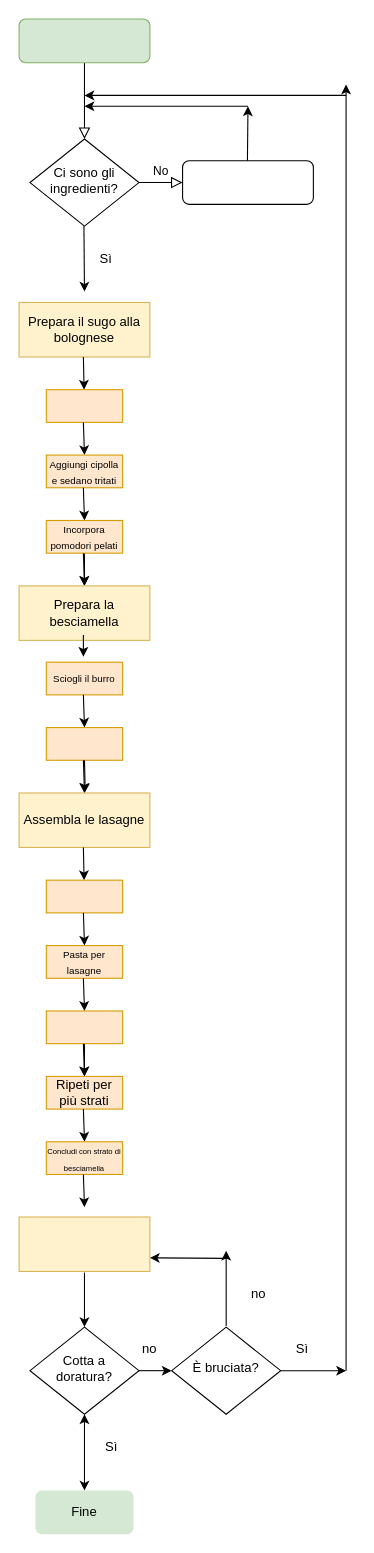
The diagram is 374 pixels wide and 1553 high, and some of its shapes have lost their labels. Here are the shapes that lost their labels. From the top down, the box of each, then its label:
(18, 18, 150, 63): START
(181, 160, 313, 204): Compra gli ingredienti
(45, 389, 123, 422): Cuocere la carne
(45, 726, 123, 760): Aggiungi farina e latte
(45, 879, 123, 913): Strato di besciamella sul fondo
(45, 1010, 123, 1044): Sugo bolognese
(18, 1216, 150, 1271): Cuoci in forno
